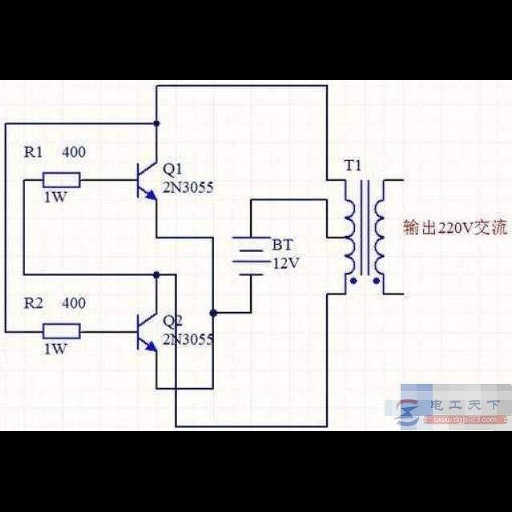battery: (226, 232, 272, 282)
firstresistance: (37, 320, 88, 341), (37, 169, 85, 189)
npn: (127, 156, 161, 206), (130, 309, 163, 360)
transformer: (339, 189, 388, 277)
